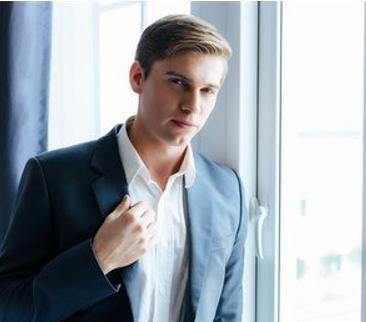Sober: (160, 54, 222, 144)
